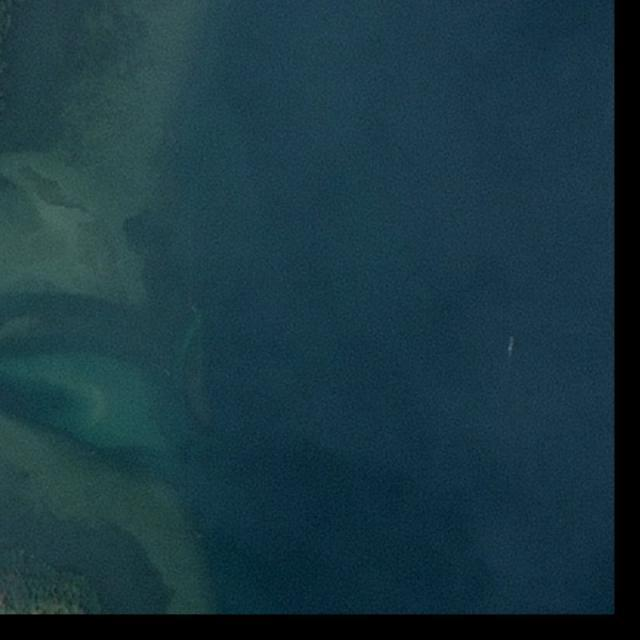ship: (507, 335, 514, 351)
